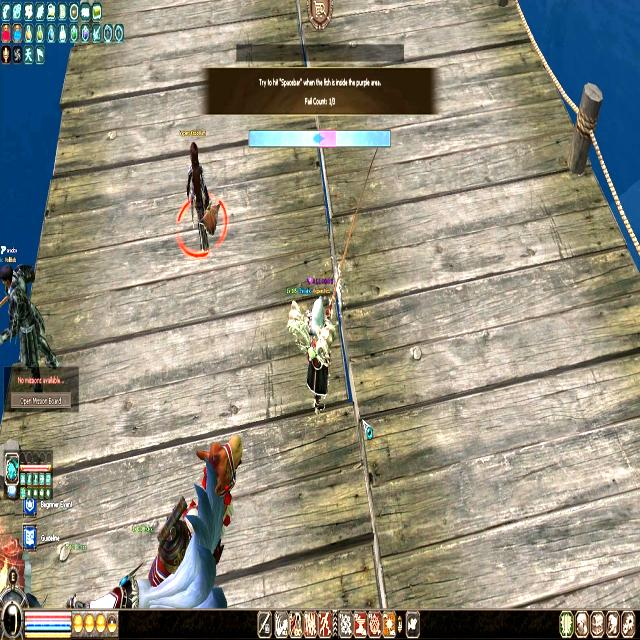fishes: (312, 132, 322, 146)
